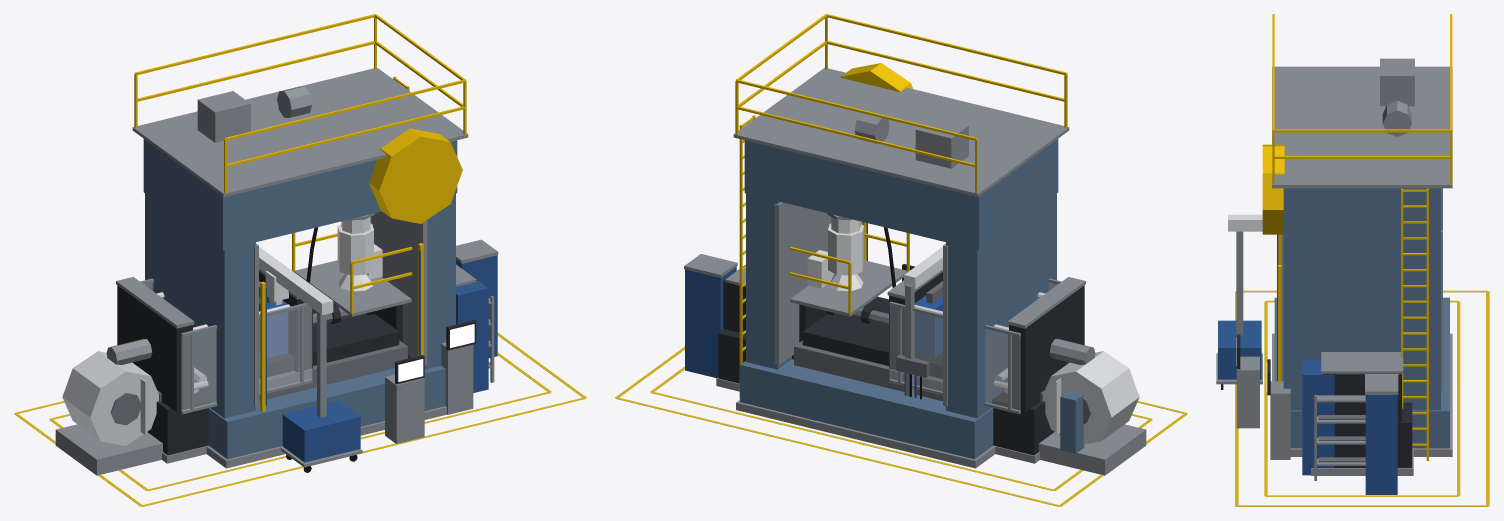
The model's file is heavy-plant.glb.
The picture shows the model from 3 angles, left to right: view 1: azimuth 30°, elevation 25°; view 2: azimuth 150°, elevation 25°; view 3: azimuth 270°, elevation 25°; orthographic projection.
Parts seen in each view (by area): view 1: ML.press.frame, ML.injection.guards, ML.injection.machine, ML.press.coil, ML.press.drive, ML.injection.equipment, ML.press.die, ML.press.safety, ML.injection.mould; view 2: ML.press.frame, ML.injection.machine, ML.injection.guards, ML.press.coil, ML.injection.equipment, ML.press.die, ML.press.drive, ML.injection.mould; view 3: ML.press.frame, ML.injection.equipment, ML.press.drive, ML.injection.machine, ML.press.coil, ML.press.safety, ML.injection.guards.
Boxes of the visible parts, x1=… form: ML.press.frame: x1=132, y1=14, x2=468, y2=468; ML.injection.guards: x1=140, y1=213, x2=412, y2=417; ML.injection.machine: x1=106, y1=264, x2=478, y2=463; ML.press.coil: x1=14, y1=296, x2=586, y2=506; ML.press.drive: x1=197, y1=86, x2=488, y2=392; ML.injection.equipment: x1=49, y1=239, x2=551, y2=490; ML.press.die: x1=259, y1=303, x2=407, y2=401; ML.press.safety: x1=260, y1=243, x2=424, y2=443; ML.injection.mould: x1=259, y1=281, x2=288, y2=357; ML.press.frame: x1=733, y1=14, x2=1069, y2=468; ML.injection.machine: x1=716, y1=264, x2=1095, y2=463; ML.injection.guards: x1=789, y1=213, x2=1061, y2=414; ML.press.coil: x1=615, y1=346, x2=1187, y2=506; ML.injection.equipment: x1=650, y1=254, x2=1152, y2=490; ML.press.die: x1=794, y1=296, x2=942, y2=401; ML.press.drive: x1=840, y1=63, x2=968, y2=168; ML.injection.mould: x1=914, y1=281, x2=942, y2=357; ML.press.frame: x1=1272, y1=14, x2=1452, y2=460; ML.injection.equipment: x1=1216, y1=300, x2=1460, y2=496; ML.press.drive: x1=1262, y1=58, x2=1414, y2=475; ML.injection.machine: x1=1311, y1=352, x2=1413, y2=475; ML.press.coil: x1=1235, y1=290, x2=1489, y2=506; ML.press.safety: x1=1236, y1=234, x2=1281, y2=428; ML.injection.guards: x1=1228, y1=214, x2=1262, y2=335.
Bounding box in the file's own units: 8.78 × 6.18 × 4.68.
